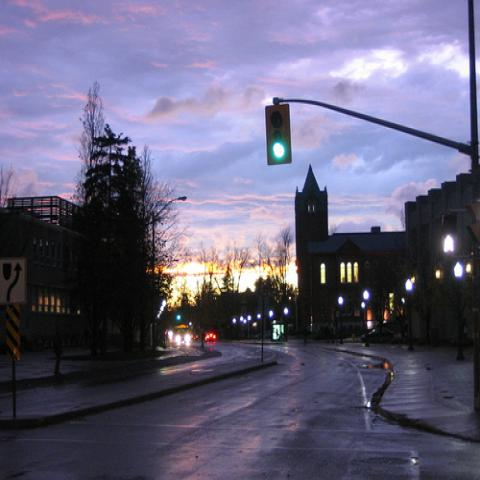bus: (171, 326, 191, 348)
car: (172, 325, 192, 347), (361, 328, 393, 340), (204, 331, 217, 342)
